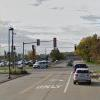Car: (70, 60, 94, 91)
